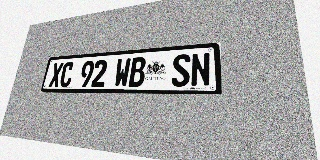2: (91, 59, 108, 87)
9: (79, 60, 95, 87)
B: (128, 57, 146, 87)
C: (59, 62, 75, 87)
N: (190, 52, 210, 87)
S: (171, 54, 190, 87)
W: (114, 58, 131, 87)
X: (48, 63, 64, 87)
